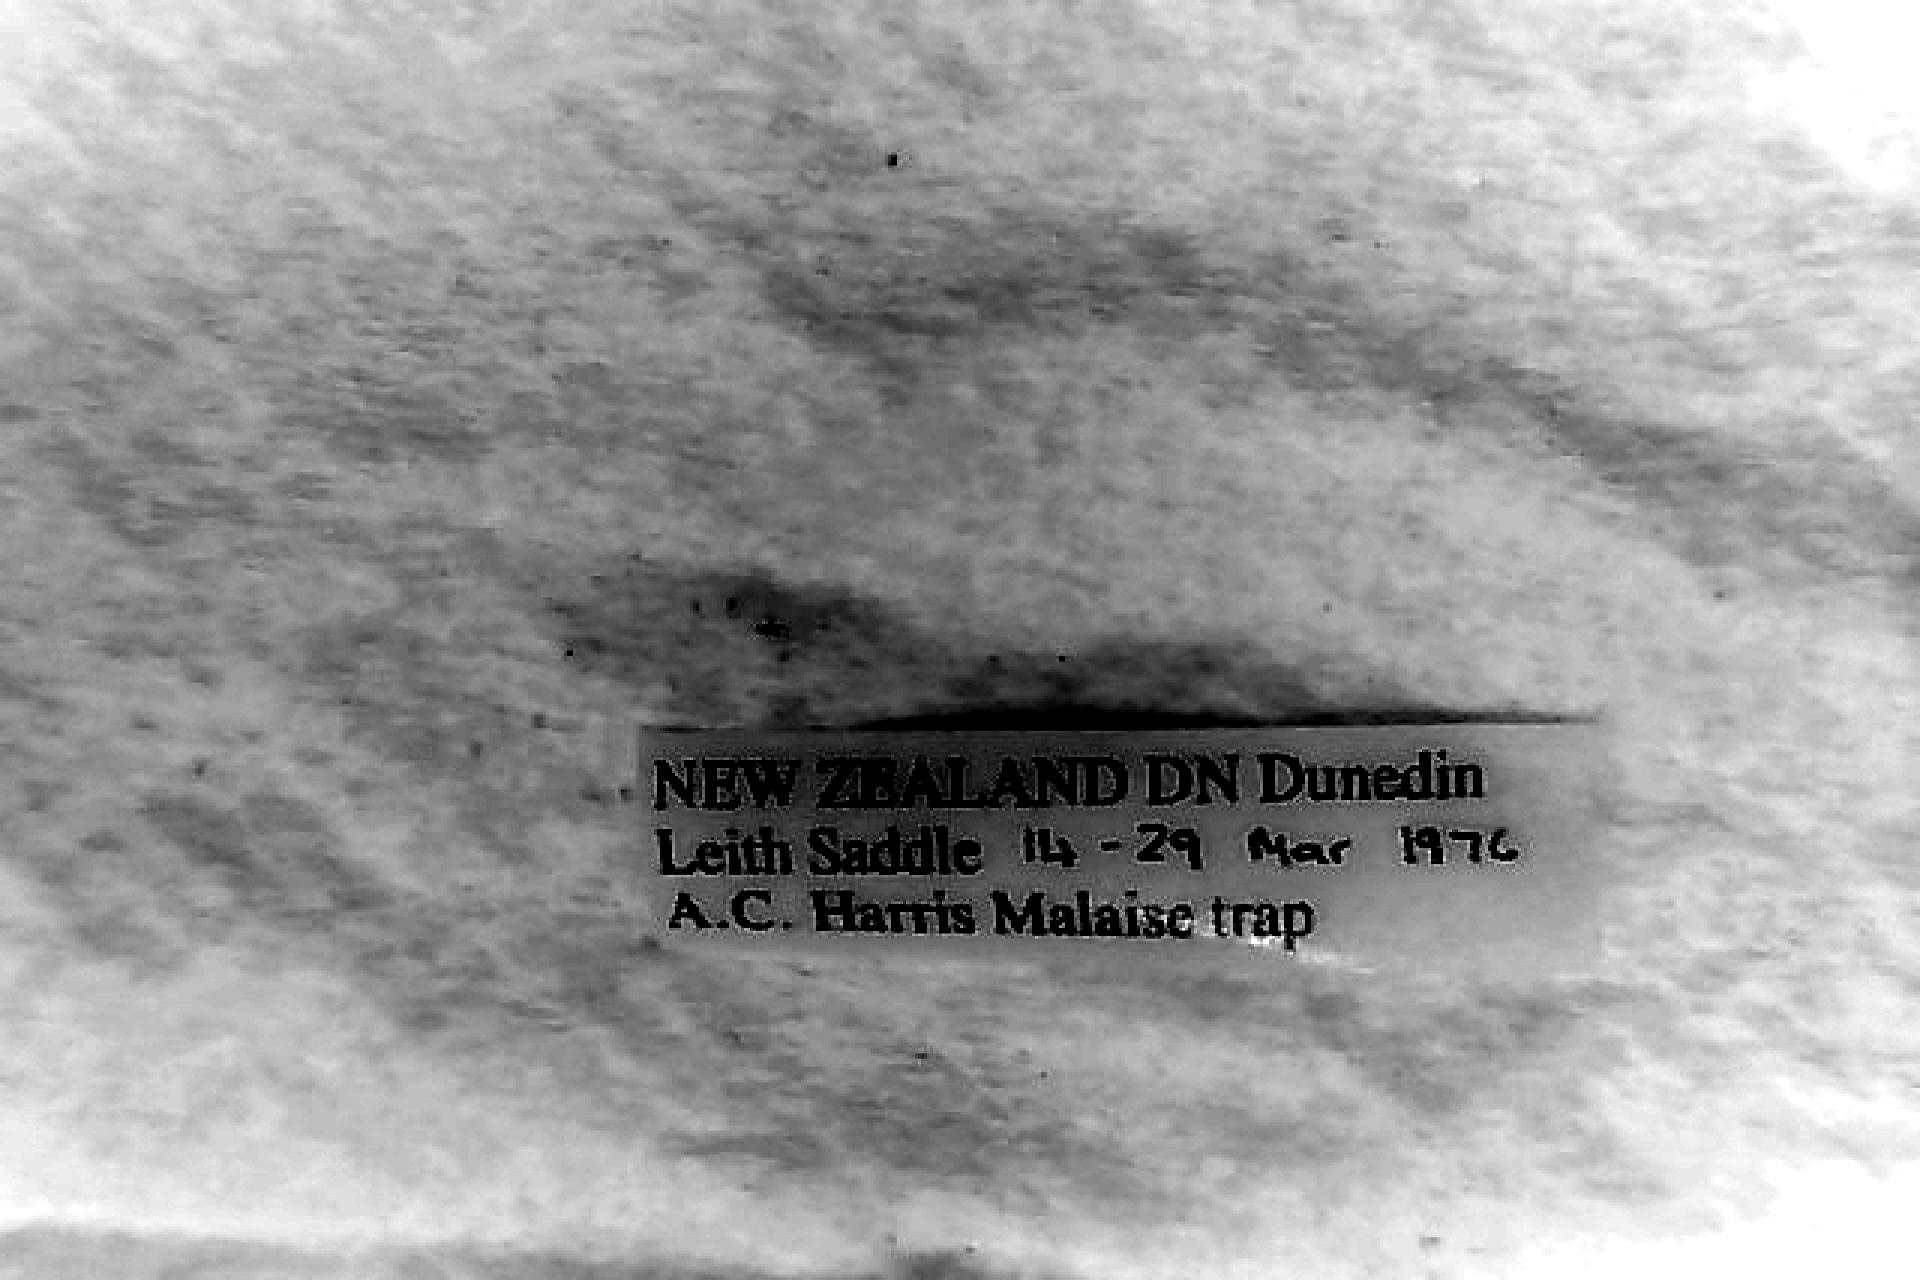mixed_label: (641, 723, 1601, 965)
